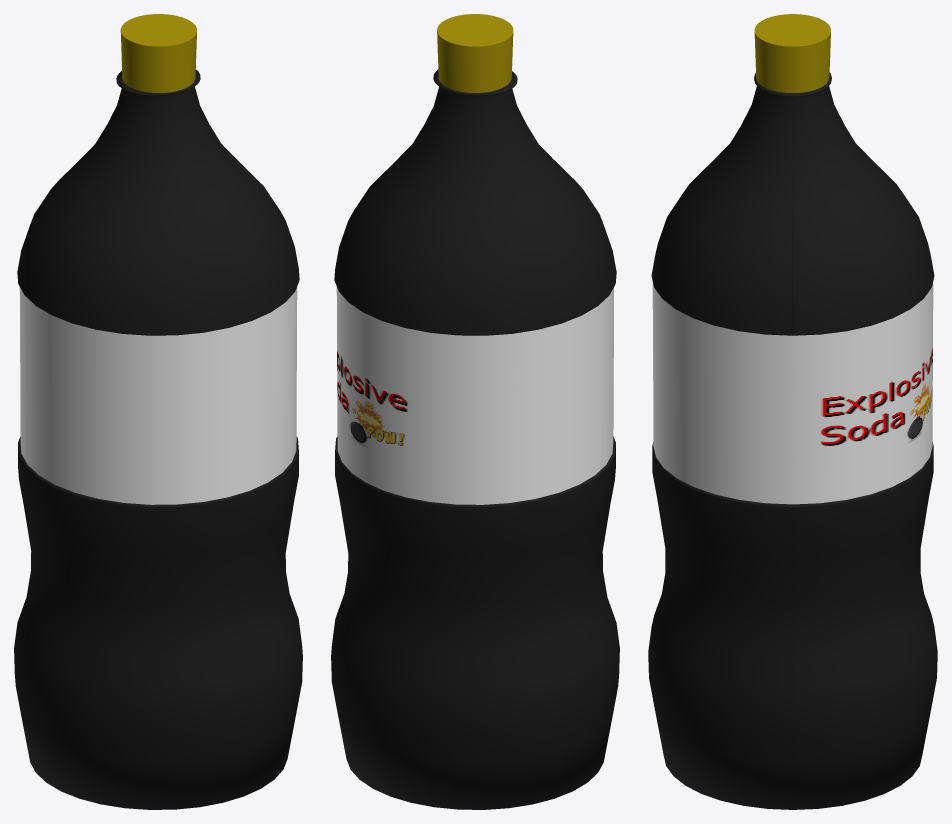
The model's file is Soda_Mine.fbx.
3 renders of one model, left to right at view 1: azimuth 30°, elevation 25°; view 2: azimuth 150°, elevation 25°; view 3: azimuth 270°, elevation 25°, orthographic.
Visible parts, largest first — view 1: Soda_Bottle_SM, Soda_Bottle_SM.001, SODA_CAP_SM; view 2: Soda_Bottle_SM, Soda_Bottle_SM.001, SODA_CAP_SM; view 3: Soda_Bottle_SM, Soda_Bottle_SM.001, SODA_CAP_SM.
Boxes of the visible parts, left/top/right/bottom form: Soda_Bottle_SM: left=14, top=69, right=302, bottom=809; Soda_Bottle_SM.001: left=19, top=286, right=297, bottom=504; SODA_CAP_SM: left=120, top=14, right=196, bottom=92; Soda_Bottle_SM: left=331, top=69, right=619, bottom=809; Soda_Bottle_SM.001: left=336, top=286, right=613, bottom=504; SODA_CAP_SM: left=437, top=14, right=513, bottom=92; Soda_Bottle_SM: left=648, top=72, right=937, bottom=809; Soda_Bottle_SM.001: left=652, top=282, right=933, bottom=504; SODA_CAP_SM: left=754, top=14, right=830, bottom=93.
Size of the model in its own units: 29.04 by 80.26 by 29.04.
Materials: 3 (2 with a texture image).
